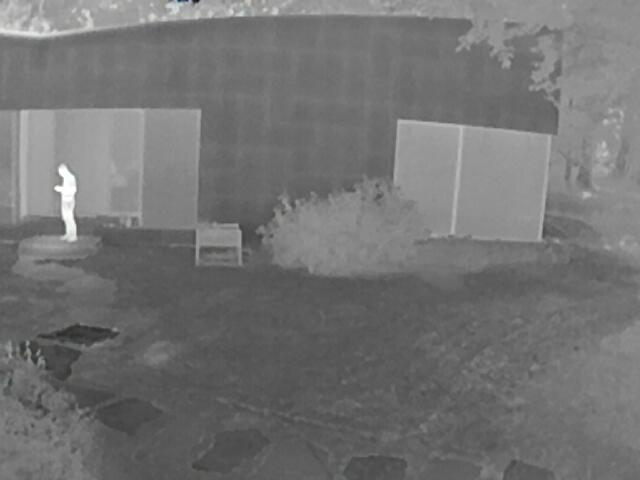person: (53, 163, 78, 242)
